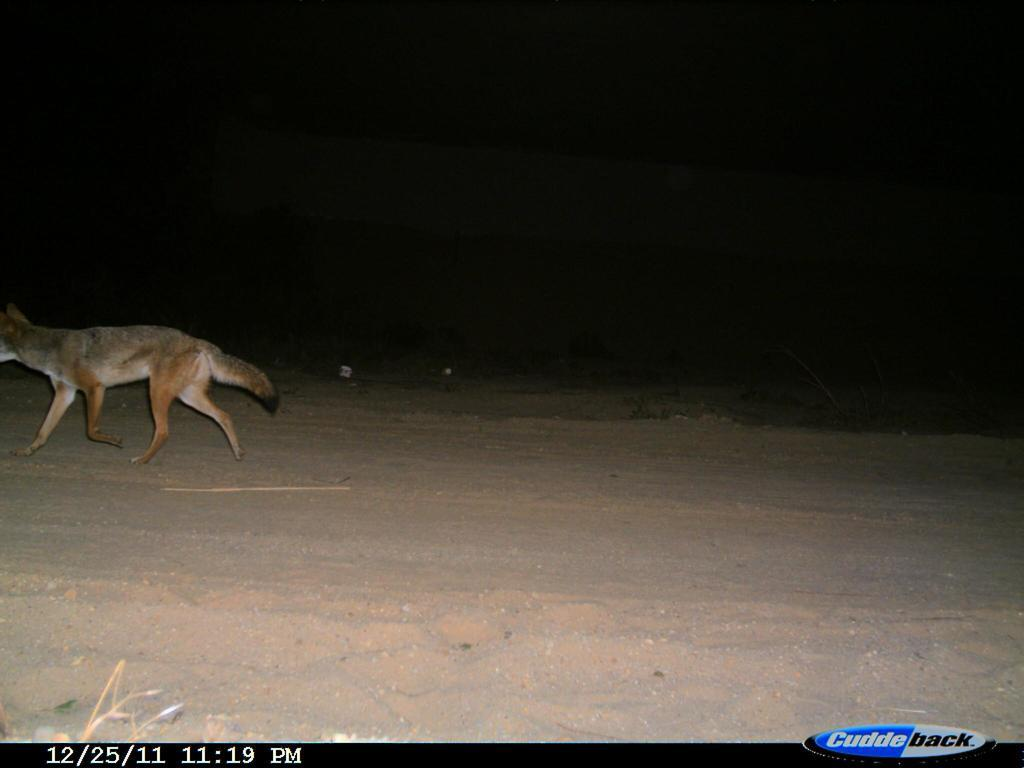coyote: (1, 291, 291, 477)
